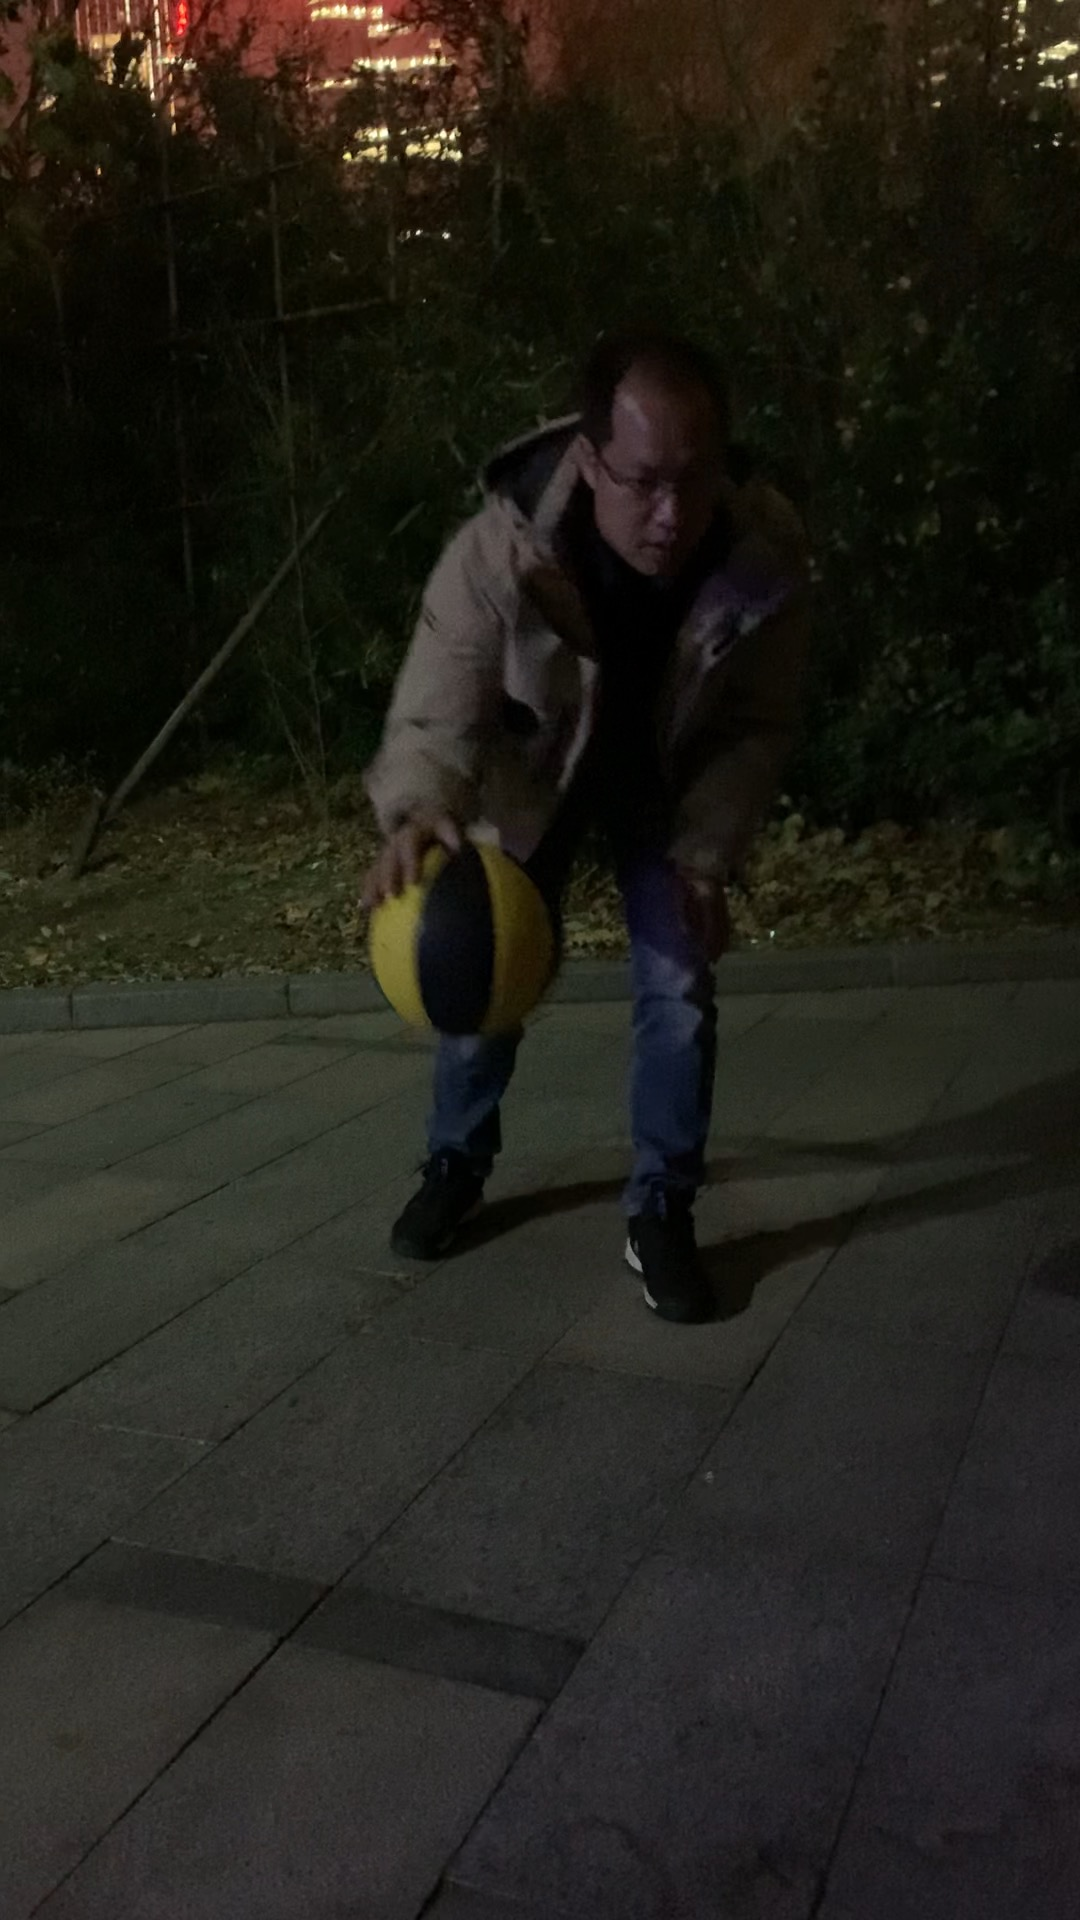ball: (369, 844, 564, 1033)
